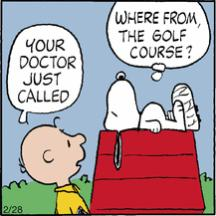charlie: (18, 116, 92, 216)
snoopy: (103, 69, 202, 171)
